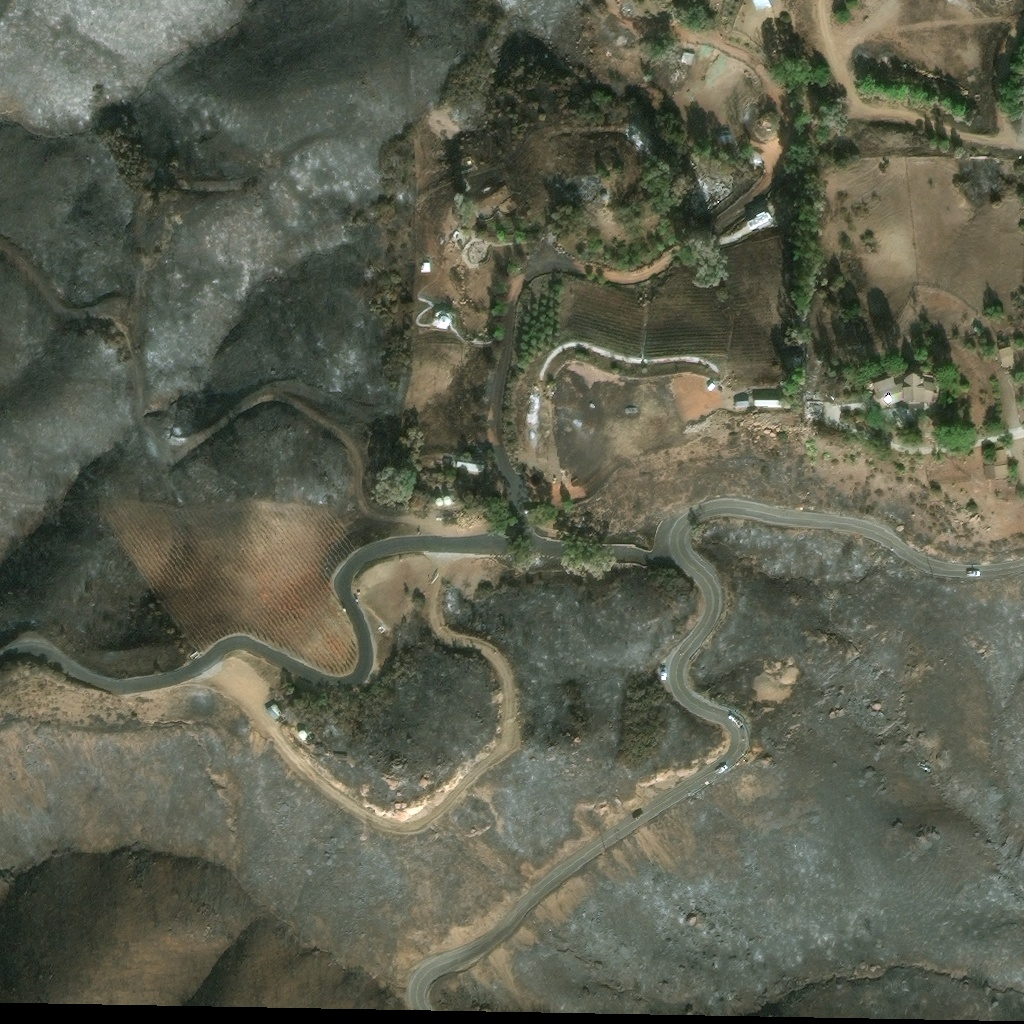0 no-damage: (870, 372, 940, 409), (983, 448, 1010, 479), (747, 206, 773, 229), (431, 308, 454, 328), (265, 703, 285, 724), (456, 460, 484, 474), (999, 345, 1016, 367), (754, 399, 780, 406), (421, 259, 431, 270), (735, 400, 750, 407), (707, 381, 716, 391), (600, 192, 609, 201), (435, 497, 444, 506), (298, 731, 307, 740), (444, 496, 452, 505), (453, 227, 461, 236)
3 destroyed: (623, 121, 656, 153), (693, 175, 716, 201), (805, 400, 821, 418), (714, 128, 731, 144), (681, 46, 696, 64), (471, 244, 486, 259), (693, 165, 706, 178), (615, 34, 627, 46), (620, 4, 631, 16)
4 un-classified: (751, 0, 772, 12)
